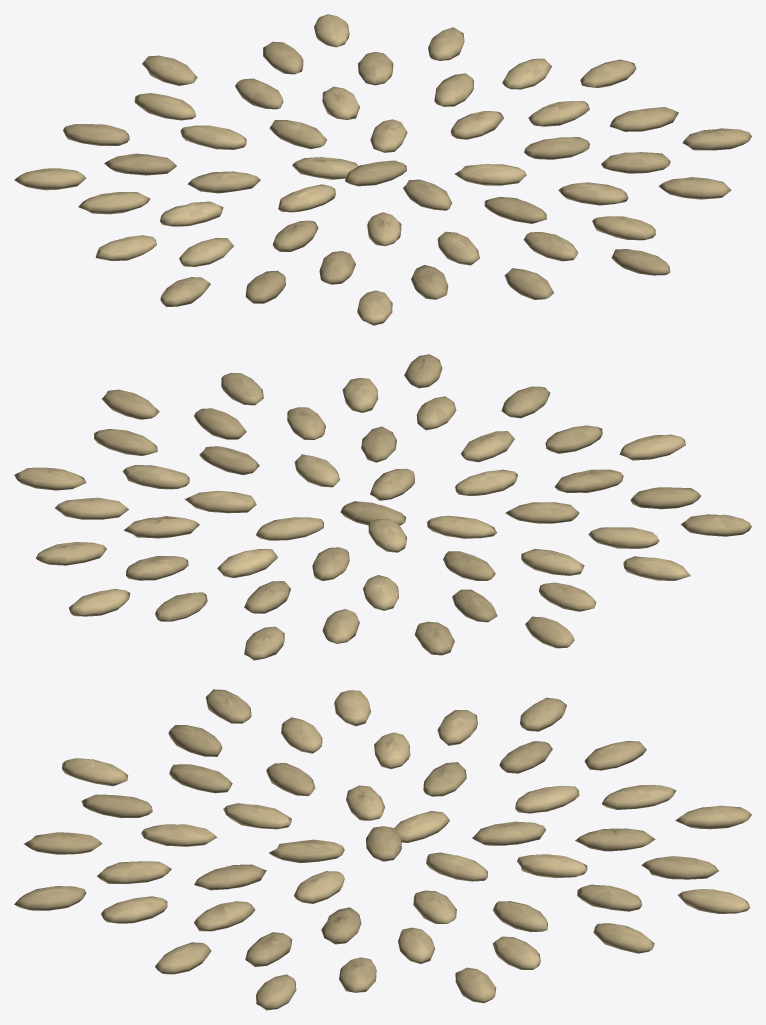
File: Sesame.glb
The picture shows the model from 3 angles, top to bottom: view 1: azimuth 30°, elevation 25°; view 2: azimuth 150°, elevation 25°; view 3: azimuth 270°, elevation 25°; orthographic projection. The views are drawn at different scales.
Visible parts, largest first — view 1: Sesame; view 2: Sesame; view 3: Sesame.
Part boxes in pixels (x1,y1,x2,y2): Sesame: [14, 14, 751, 325]; Sesame: [14, 354, 751, 660]; Sesame: [14, 689, 751, 1010].
Size of what is drawn, in the model's own units: 0.0583 by 0.00153 by 0.0573.
